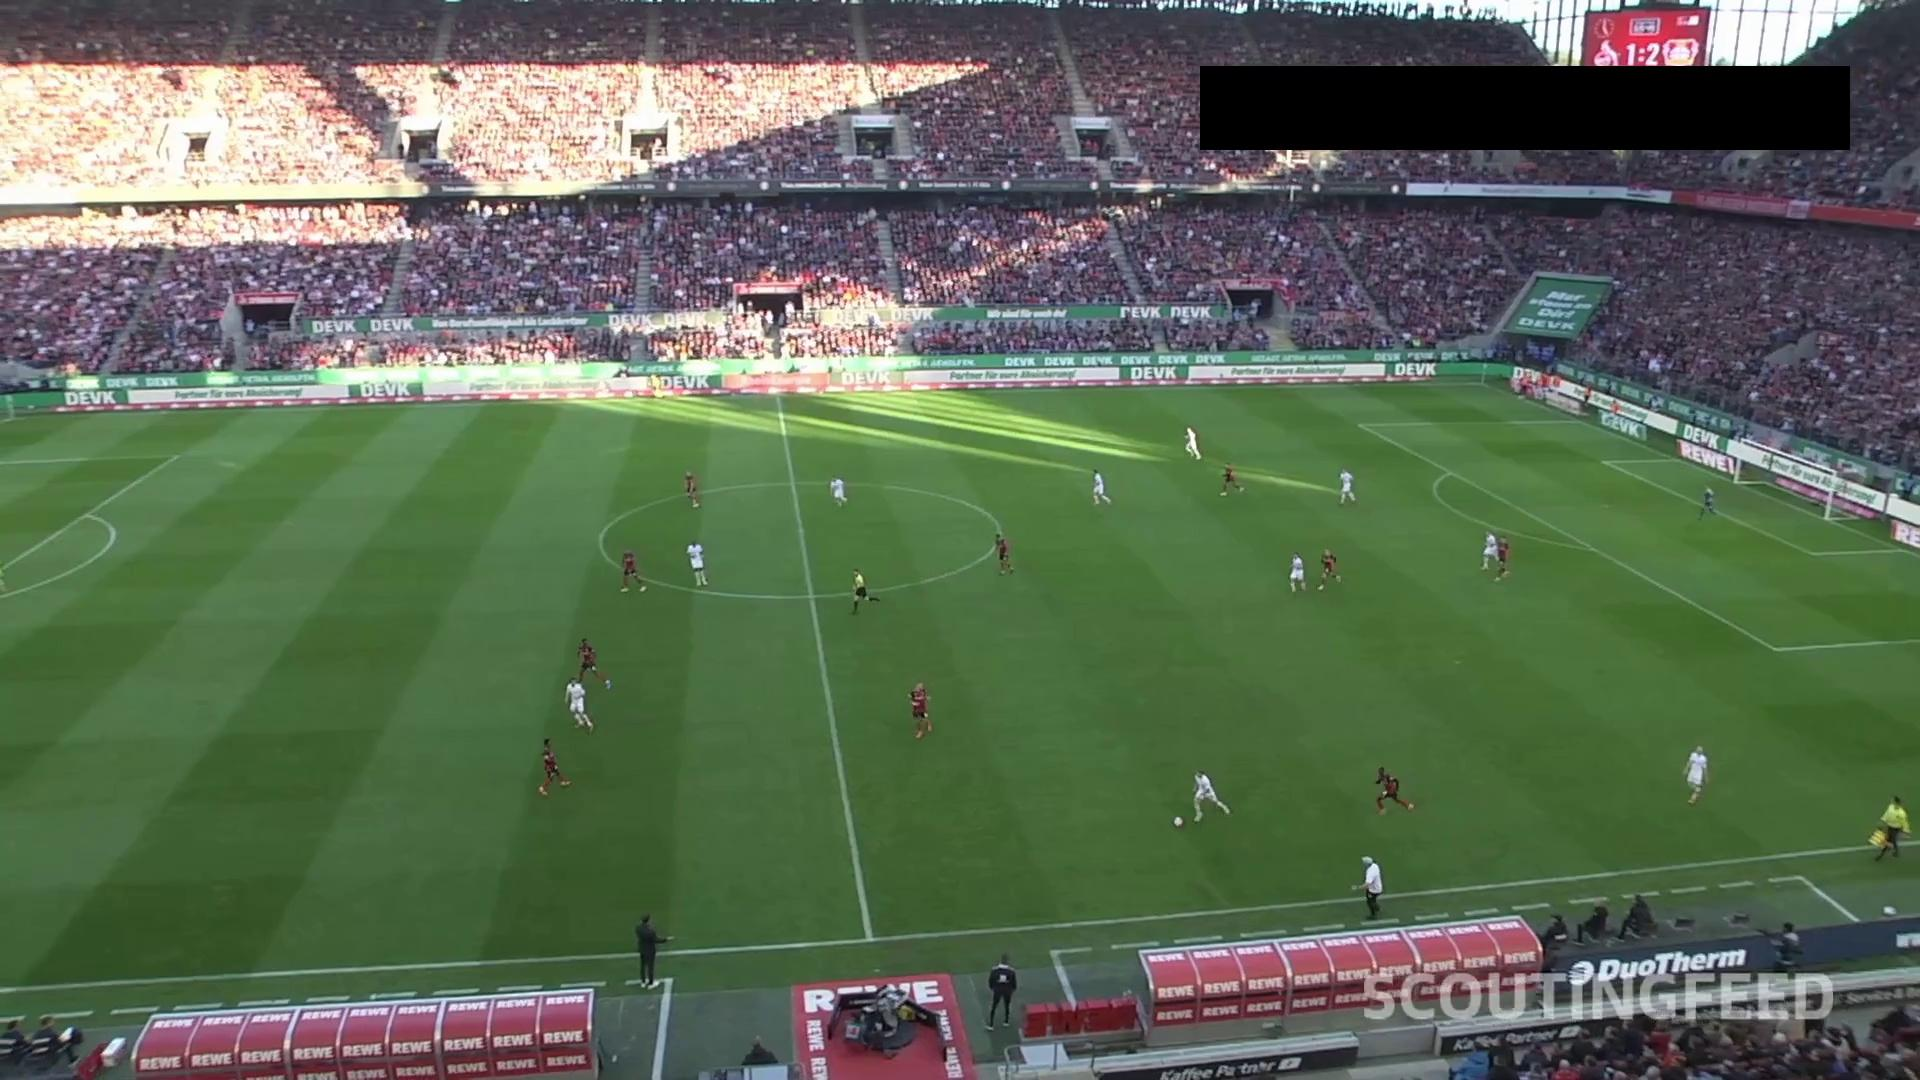Location-of-ball: (1162, 812, 1192, 829)
